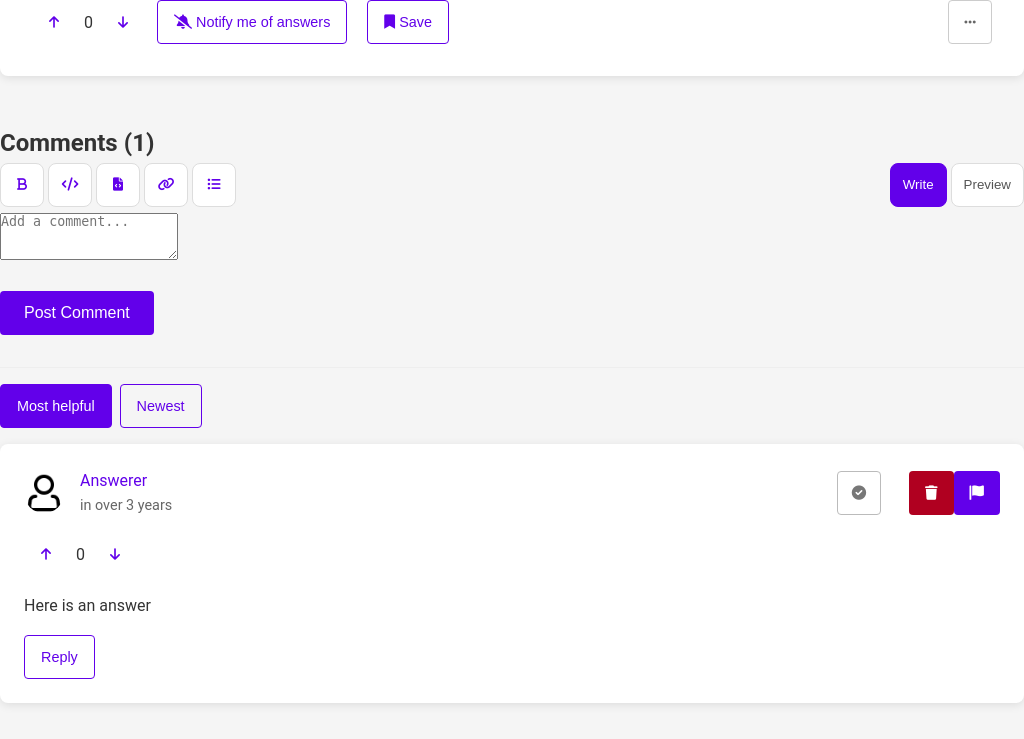
PostDetail reply draft autosave › keeps the draft in storage (for later restore) when the reply form is cancelled
(page scrolled)
Check: the text "Here is an answer" is shown, box [24, 596, 151, 615]
Click the button "Reply".
click(59, 657)  # box [24, 635, 95, 679]
(page scrolled)
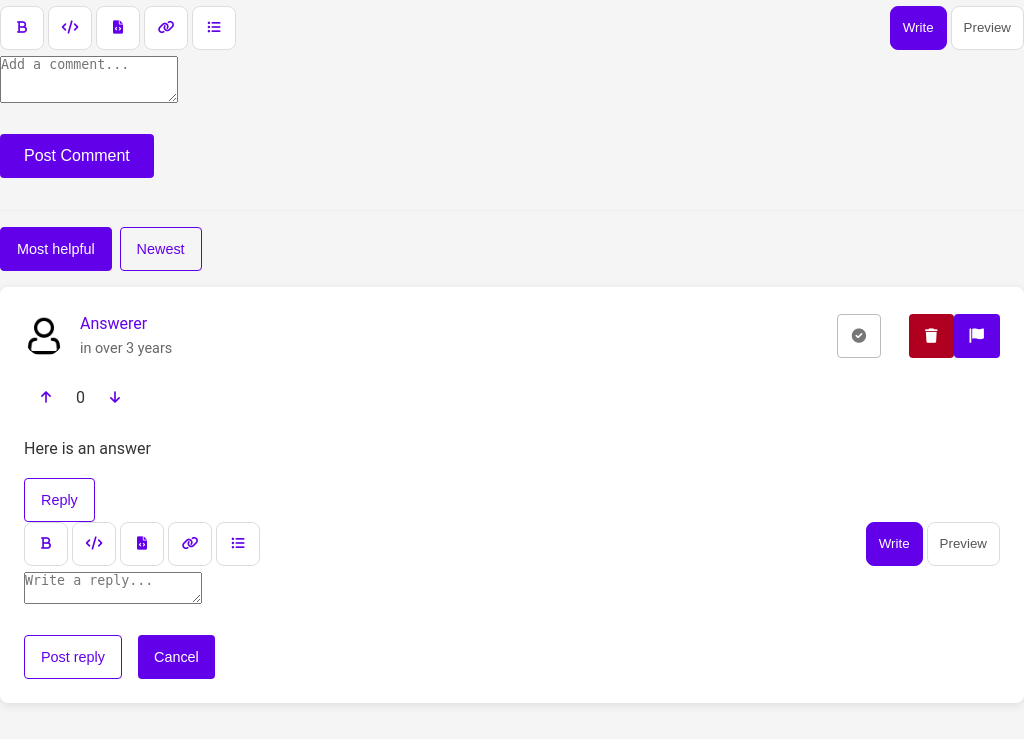
Type "Half-written reply" into the text box with placeholder "Write a reply...".
click(113, 588); type("Half-written reply")  # box [24, 572, 202, 604]
Wait 800 ms
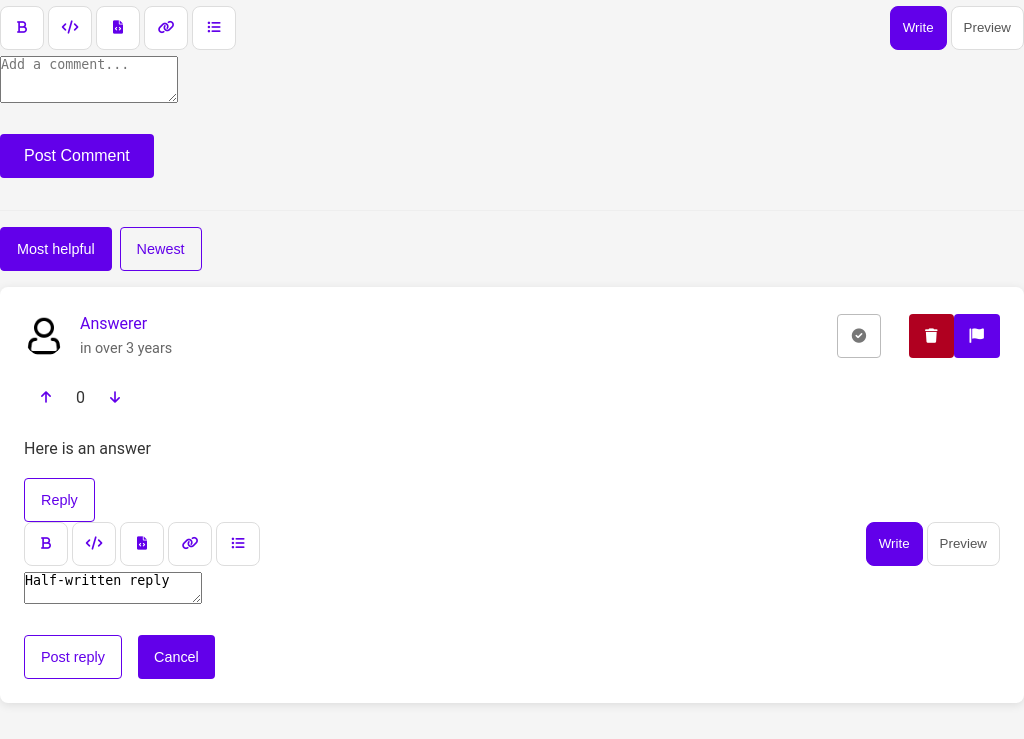
Click the button "Cancel".
click(176, 657)  # box [138, 635, 215, 679]
(page scrolled)
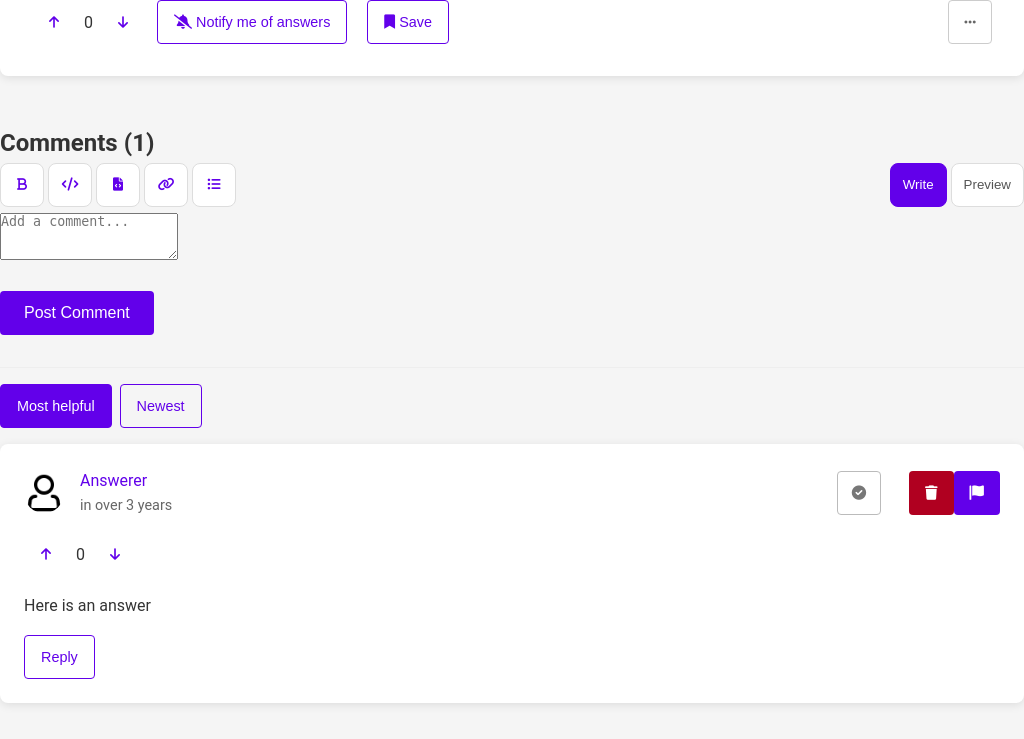
Click the button "Reply".
click(59, 657)  # box [24, 635, 95, 679]
(page scrolled)
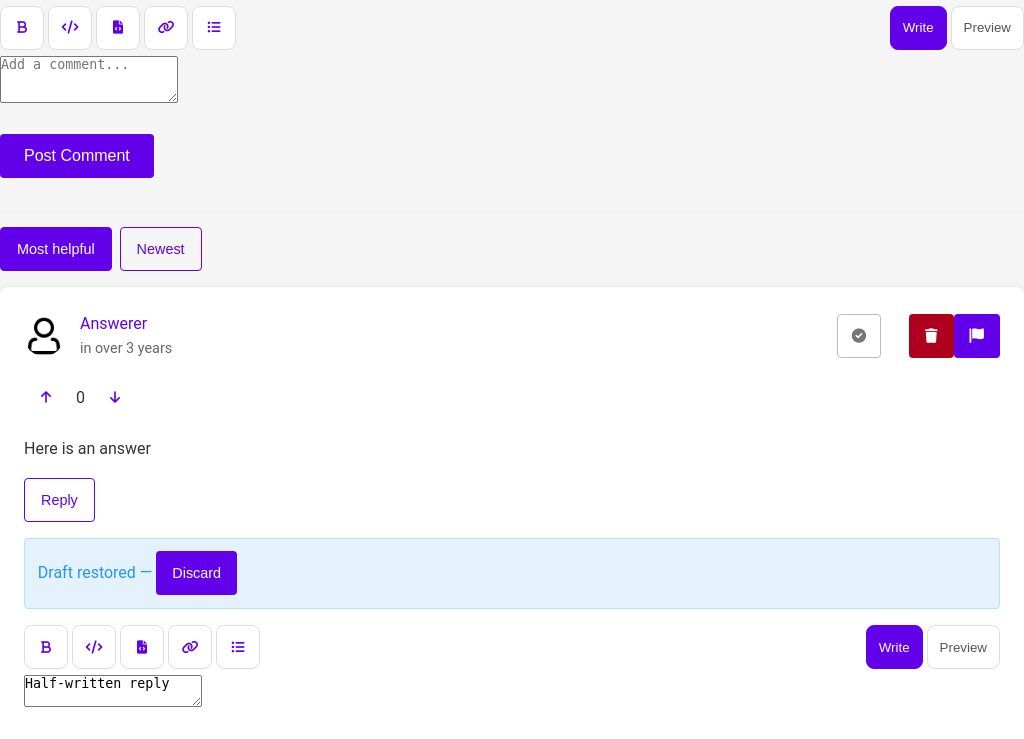
Check: the text box with placeholder "Write a reply..." holds "Half-written reply", box [24, 675, 202, 707]
